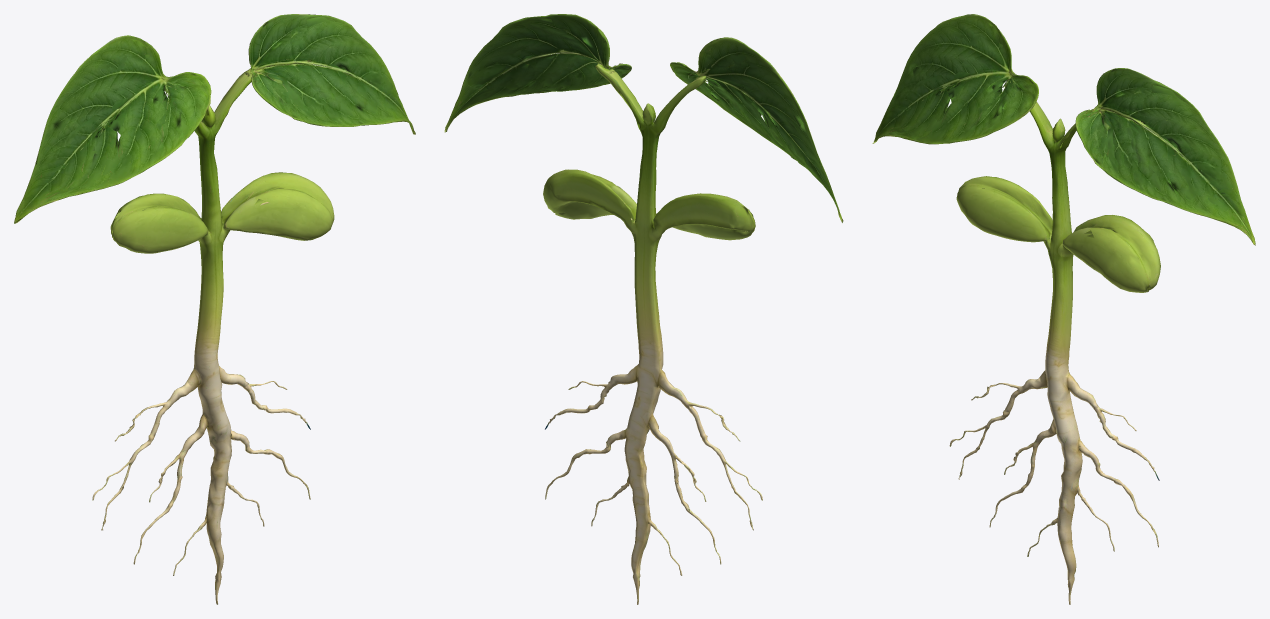
Rendered from bean-seedling.glb.
3 views of the same model, side by side, from view 1: azimuth 30°, elevation 25°; view 2: azimuth 150°, elevation 25°; view 3: azimuth 330°, elevation 25° (orthographic). The views are drawn at different scales.
Size of the model in its own units: 0.6729 by 0.9502 by 0.0801.
Materials: 1 (1 with a texture image).
